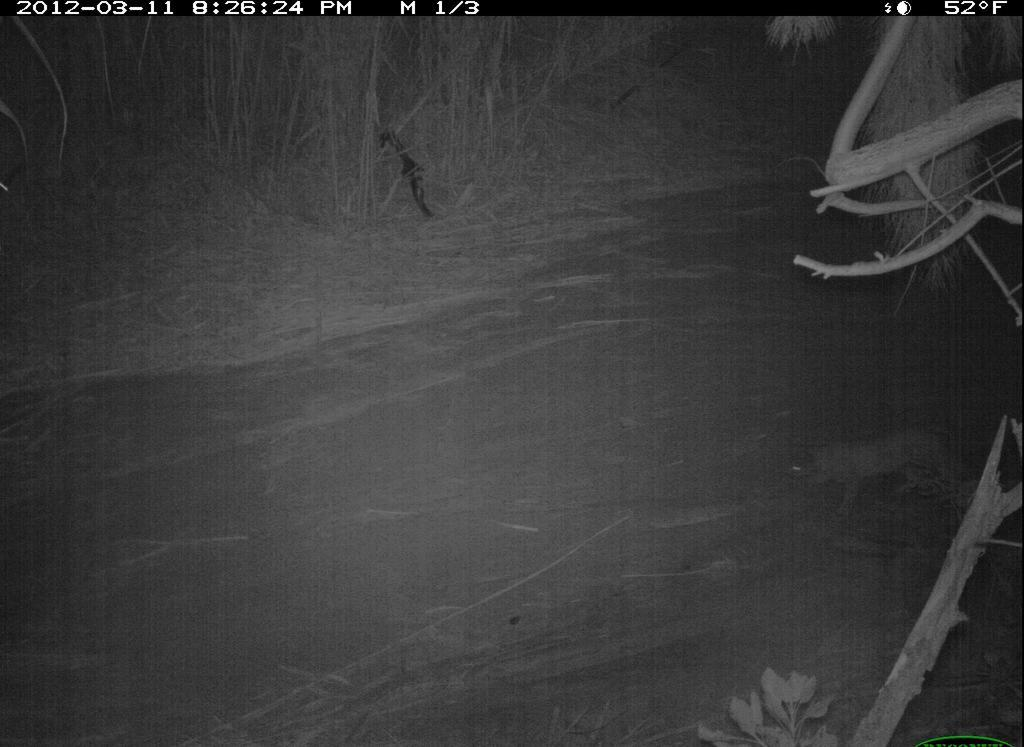bobcat: (780, 410, 978, 523)
